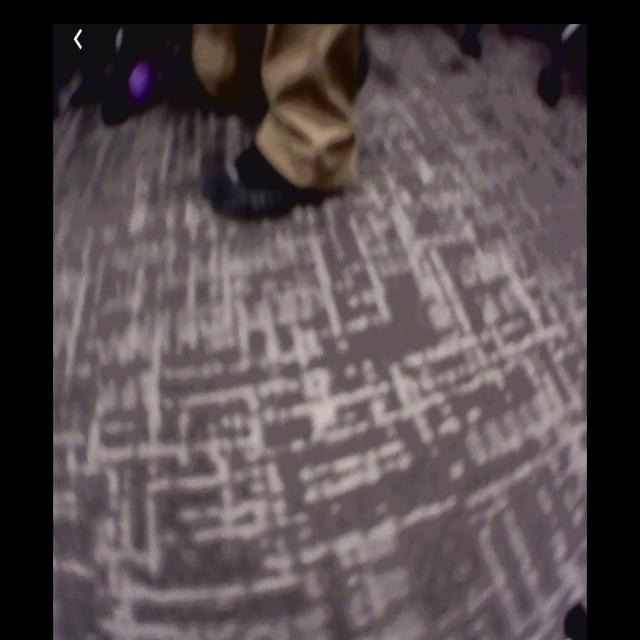ball: (130, 58, 151, 100)
